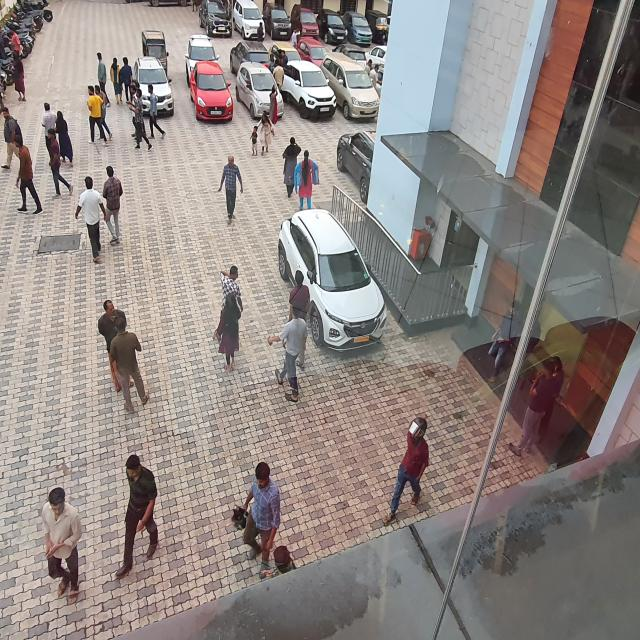humans: (114, 451, 158, 580), (379, 408, 425, 527), (232, 459, 278, 578), (41, 486, 85, 606), (508, 358, 554, 462), (264, 302, 306, 403), (108, 316, 150, 416), (212, 149, 248, 233), (73, 175, 106, 265), (12, 132, 46, 219), (96, 299, 126, 394), (488, 298, 520, 386), (213, 293, 242, 374), (46, 128, 76, 202), (101, 162, 125, 245), (125, 90, 154, 156), (86, 84, 110, 149), (294, 150, 318, 210), (145, 84, 169, 143), (55, 109, 78, 169), (286, 268, 311, 322), (93, 82, 115, 142), (0, 106, 18, 173), (282, 137, 301, 198), (10, 51, 31, 105), (218, 266, 242, 309), (94, 49, 111, 109), (257, 112, 276, 158), (108, 54, 124, 106), (124, 85, 138, 140), (120, 54, 135, 105), (41, 102, 58, 131), (273, 59, 285, 93), (9, 25, 23, 54), (269, 84, 278, 126), (248, 125, 258, 158), (369, 64, 381, 87), (290, 27, 300, 50), (257, 22, 265, 43), (366, 59, 372, 72)
